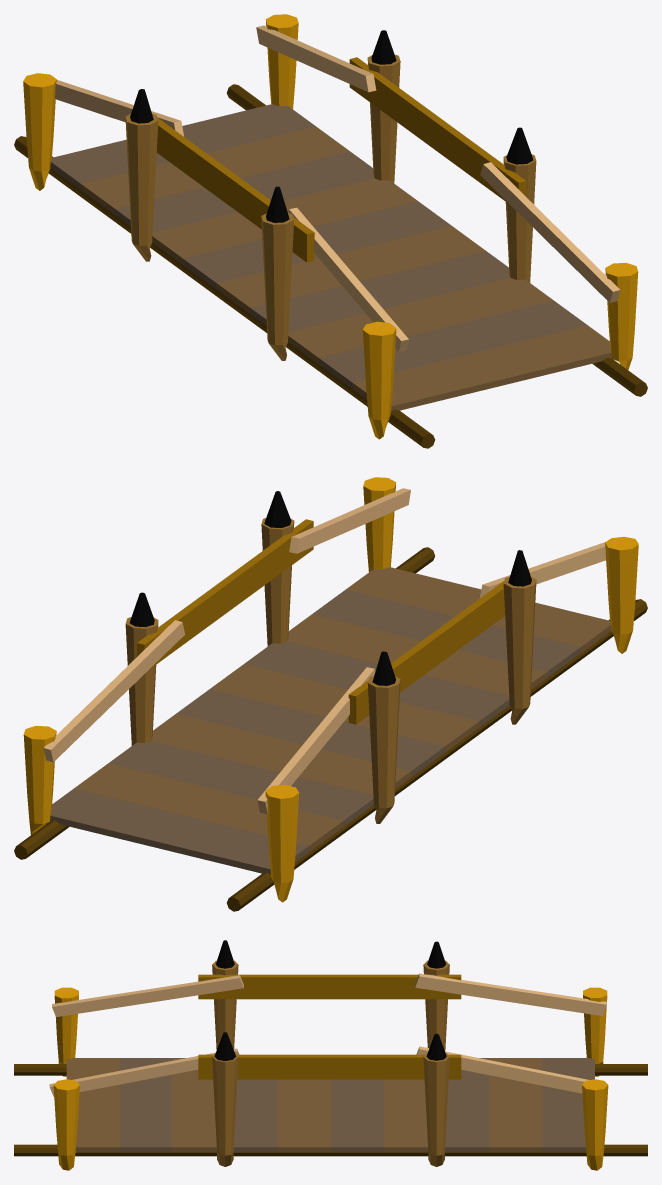
The model's file is ThinWoodBridge.fbx.
3 views of the same model, one above another, from view 1: azimuth 30°, elevation 25°; view 2: azimuth 150°, elevation 25°; view 3: azimuth 270°, elevation 25° (orthographic). The views are drawn at different scales.
Parts seen in each view (by area): view 1: ThinWoodBridge; view 2: ThinWoodBridge; view 3: ThinWoodBridge.
Boxes of the visible parts, x1,y1,x2,y2 form: ThinWoodBridge: (14, 14, 647, 448); ThinWoodBridge: (14, 477, 647, 911); ThinWoodBridge: (14, 940, 647, 1170).
Size of the model in its own units: 4.62 by 2.85 by 12.
